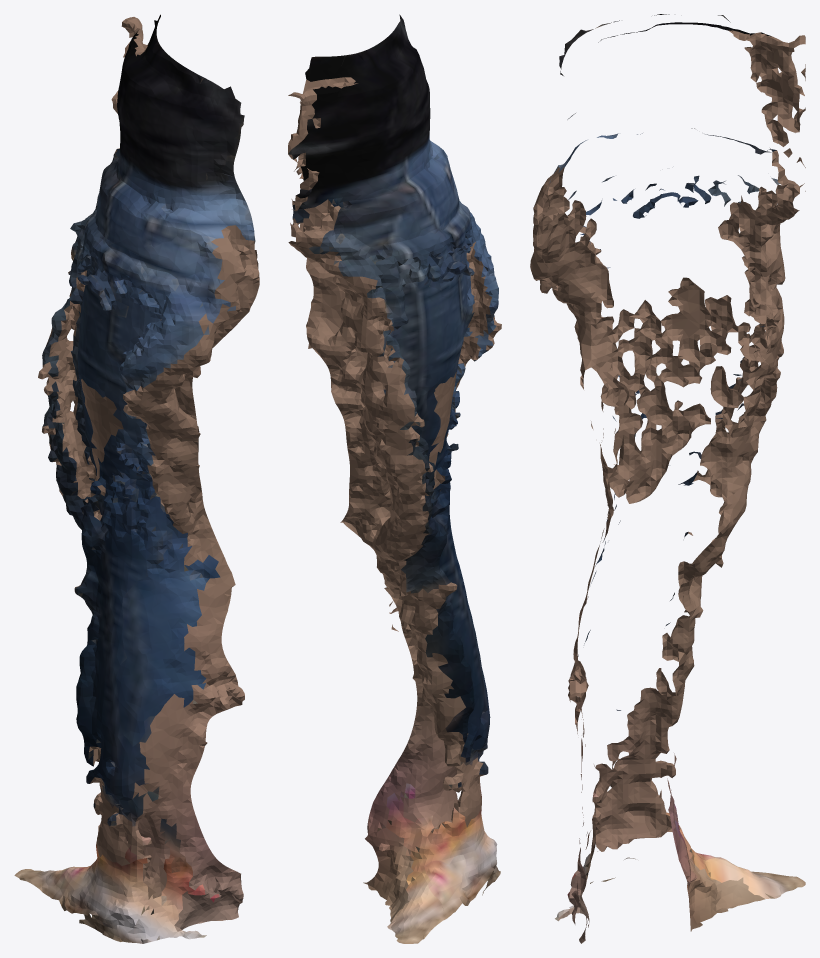
The picture shows the model from 3 angles, left to right: view 1: azimuth 30°, elevation 25°; view 2: azimuth 150°, elevation 25°; view 3: azimuth 270°, elevation 25°; orthographic projection. The views are drawn at different scales.
Bounding box in the file's own units: 0.1642 × 1.05 × 0.2834.
1 material, 1 textured.
